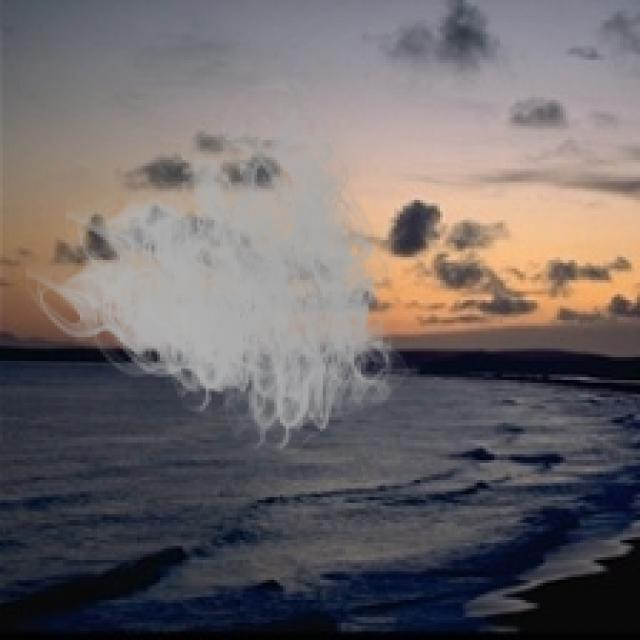Smoke: (26, 68, 417, 466)
